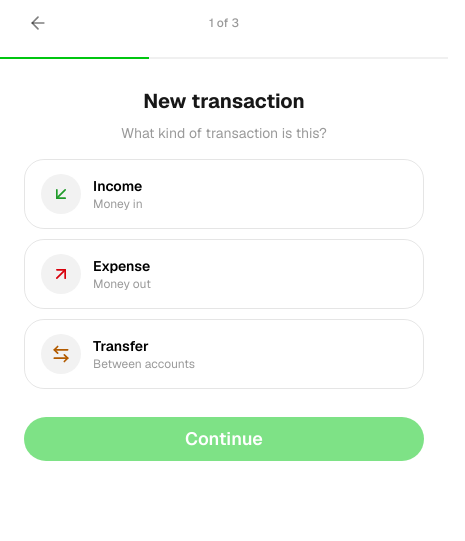
AddTransactionWizard — step 2 (details) › renders the Amount field and Bank account field on step 2
Click the text "Income": [118, 186] box [93,177,142,195]
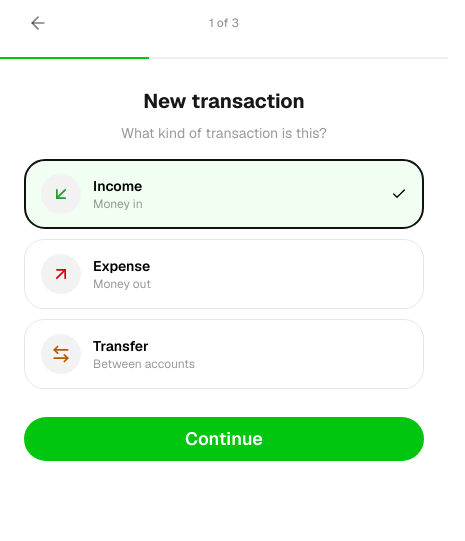
Click the button "Continue": [224, 439] box [24,417,424,461]
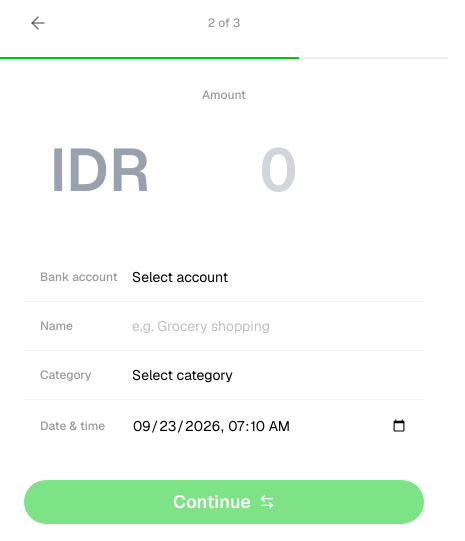
Expected: the text "Amount" is shown, [202,87,246,103]
Expected: the text "Bank account" is shown, [40,269,120,285]
